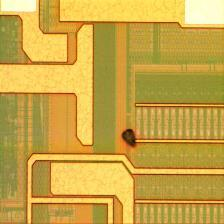PARTICLE: (116, 125, 144, 153)
